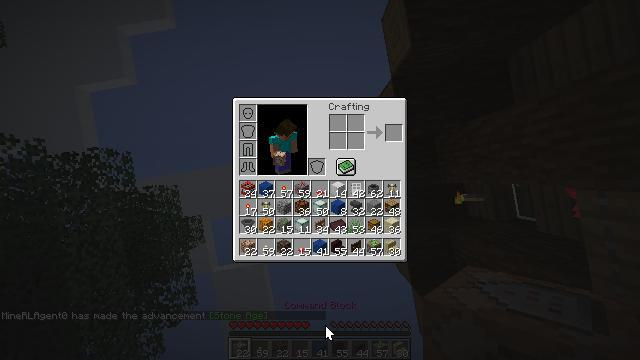cursor: (325, 325, 335, 341)
